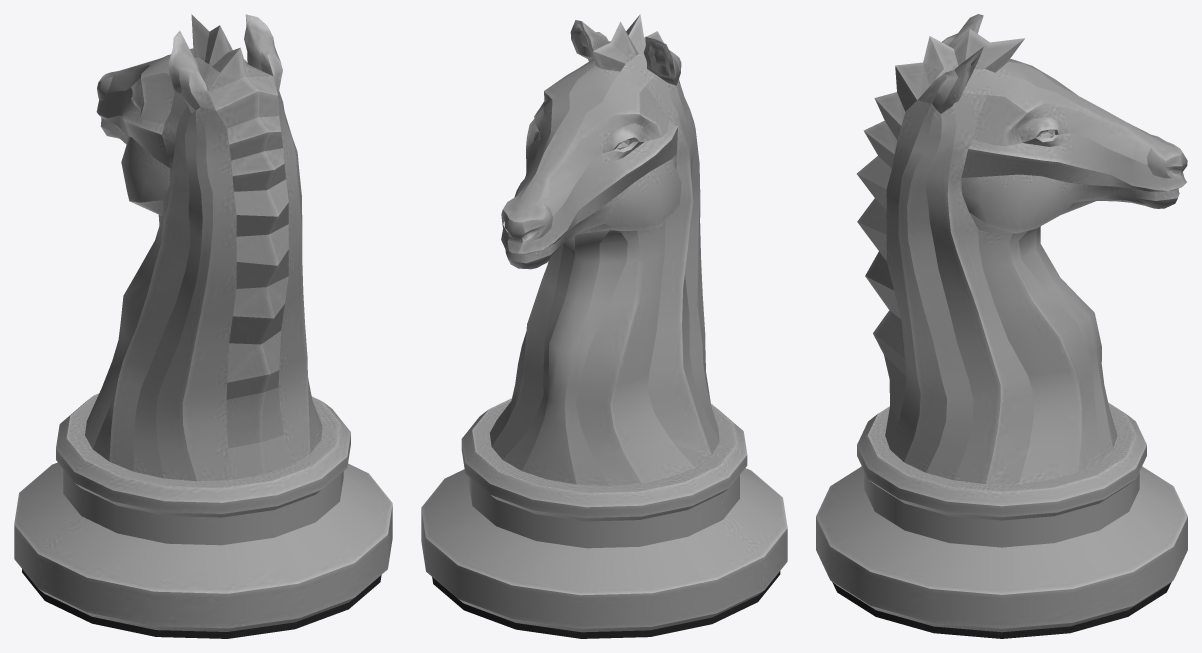
3 views of the same model, side by side, from view 1: azimuth 30°, elevation 25°; view 2: azimuth 150°, elevation 25°; view 3: azimuth 270°, elevation 25° (orthographic). The views are drawn at different scales.
Parts seen in each view (by area): view 1: Object_42.001; view 2: Object_42.001; view 3: Object_42.001.
Part boxes in pixels (x1,y1,x2,y2): Object_42.001: [14, 14, 392, 638]; Object_42.001: [421, 14, 787, 638]; Object_42.001: [816, 14, 1187, 638].
Bounding box in the file's own units: 1.02 × 1.63 × 1.03.
Materials: 1 (1 with a texture image).
